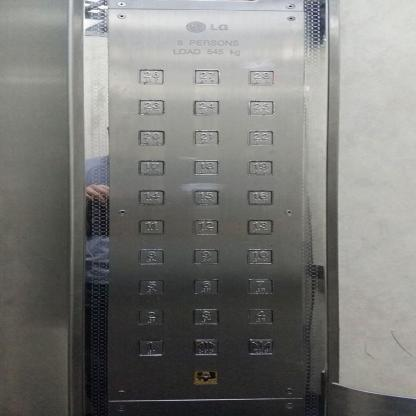1: (136, 338, 166, 357)
10: (246, 249, 273, 264)
11: (138, 219, 164, 234)
12: (192, 218, 219, 235)
13: (246, 219, 273, 234)
14: (138, 189, 164, 206)
15: (192, 190, 219, 206)
16: (245, 190, 272, 206)
17: (138, 159, 166, 176)
18: (192, 160, 219, 175)
19: (247, 160, 273, 175)
2: (138, 309, 164, 325)
20: (136, 130, 165, 145)
21: (193, 129, 219, 146)
22: (246, 130, 273, 146)
23: (136, 98, 166, 116)
24: (192, 98, 219, 116)
25: (246, 99, 274, 115)
26: (136, 68, 164, 84)
27: (192, 68, 219, 85)
28: (247, 70, 275, 86)
3: (191, 308, 220, 324)
4: (248, 308, 274, 324)
5: (138, 279, 165, 296)
6: (192, 278, 219, 296)
7: (246, 277, 274, 295)
8: (137, 249, 165, 265)
9: (192, 248, 219, 264)
alarm: (190, 368, 221, 387)
close: (244, 336, 277, 356)
open: (190, 337, 221, 356)
